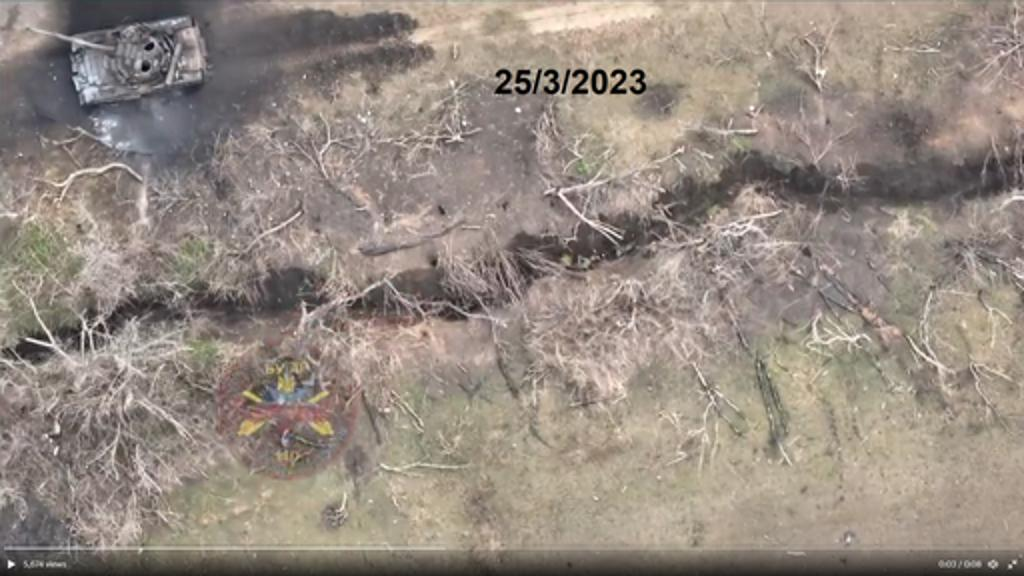TANK: (16, 10, 208, 102)
